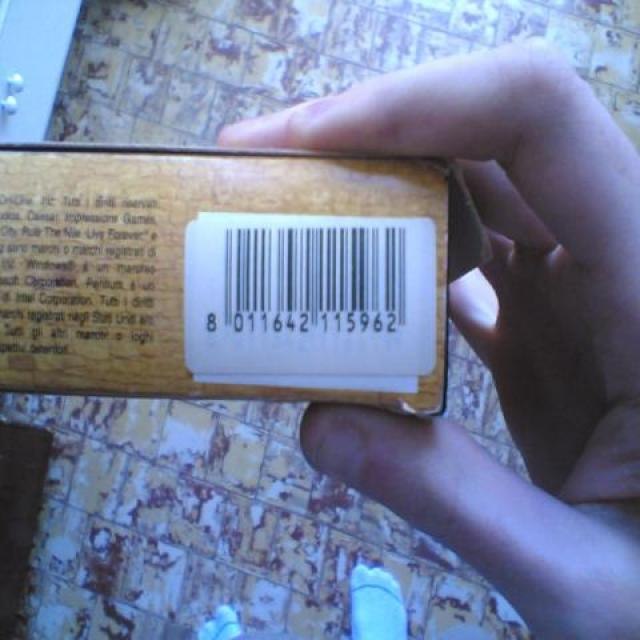Barcode: (198, 217, 421, 367)
